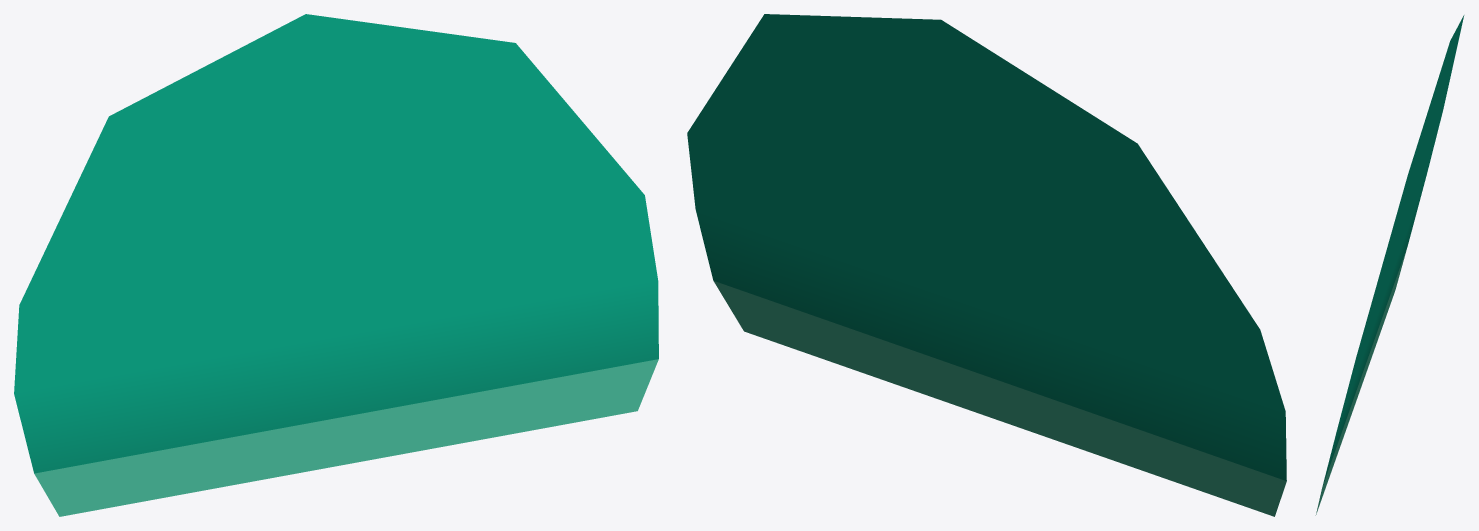
Rendered from scareCrowTopEyeLidGreenRight.glb.
3 views of the same model, side by side, from view 1: azimuth 30°, elevation 25°; view 2: azimuth 150°, elevation 25°; view 3: azimuth 270°, elevation 25° (orthographic). The views are drawn at different scales.
Parts seen in each view (by area): view 1: scareCrowTopEyeLidGreenRight; view 2: scareCrowTopEyeLidGreenRight; view 3: scareCrowTopEyeLidGreenRight.
Part boxes in pixels (left/top/right/bottom): scareCrowTopEyeLidGreenRight: left=14, top=14, right=658, bottom=516; scareCrowTopEyeLidGreenRight: left=687, top=14, right=1286, bottom=516; scareCrowTopEyeLidGreenRight: left=1315, top=15, right=1464, bottom=515.
Size of the model in its own units: 0.1055 by 0.0701 by 0.0255.
